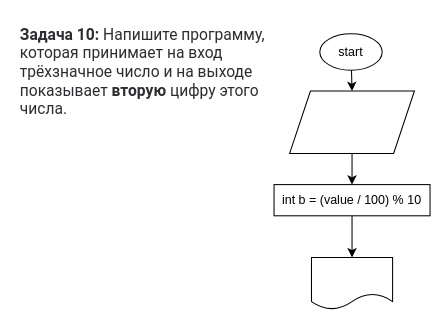
This 448x328 diagram has some shape labels left out. Here are the shapes that lost their labels. From the top down, the centre of each, then its label:
(x=351, y=121): int value = 456
(x=351, y=282): print b
